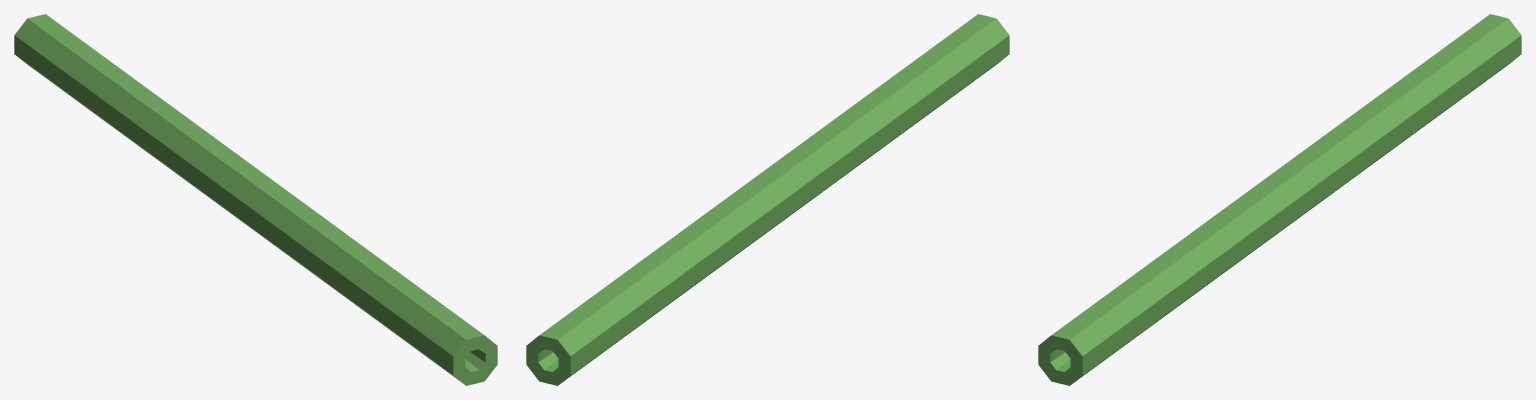
File: SM_Prop_Pool_Float_Noodle_02.fbx
The picture shows the model from 3 angles, left to right: view 1: azimuth 30°, elevation 25°; view 2: azimuth 150°, elevation 25°; view 3: azimuth 330°, elevation 25°; orthographic projection.
Visible parts, largest first — view 1: SM_Prop_Pool_Float_Noodle_02; view 2: SM_Prop_Pool_Float_Noodle_02; view 3: SM_Prop_Pool_Float_Noodle_02.
Boxes of the visible parts, <box> form: SM_Prop_Pool_Float_Noodle_02: <box>14,14,497,385</box>; SM_Prop_Pool_Float_Noodle_02: <box>526,14,1009,385</box>; SM_Prop_Pool_Float_Noodle_02: <box>1038,14,1521,385</box>.
Bounding box in the file's own units: 15.81 × 15.81 × 272.
